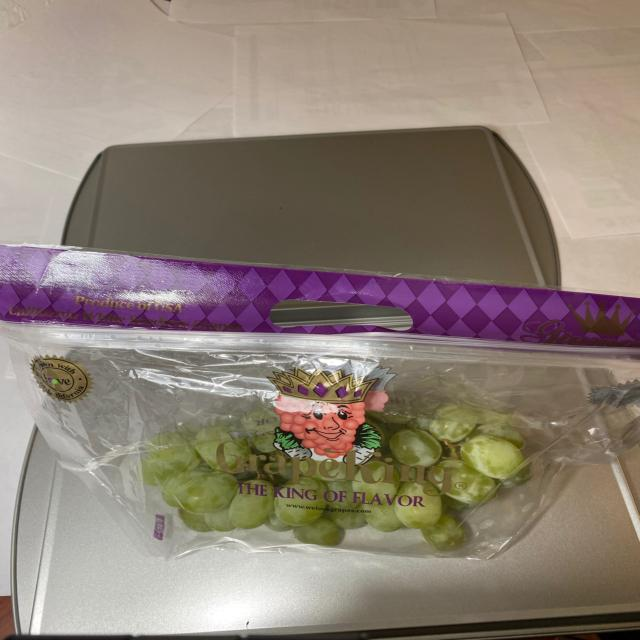grapes: (140, 408, 564, 544)
